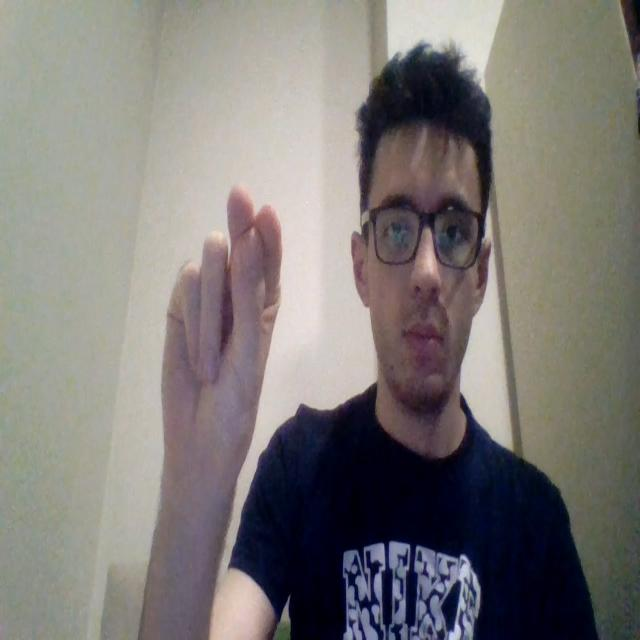no: (159, 183, 283, 515)
